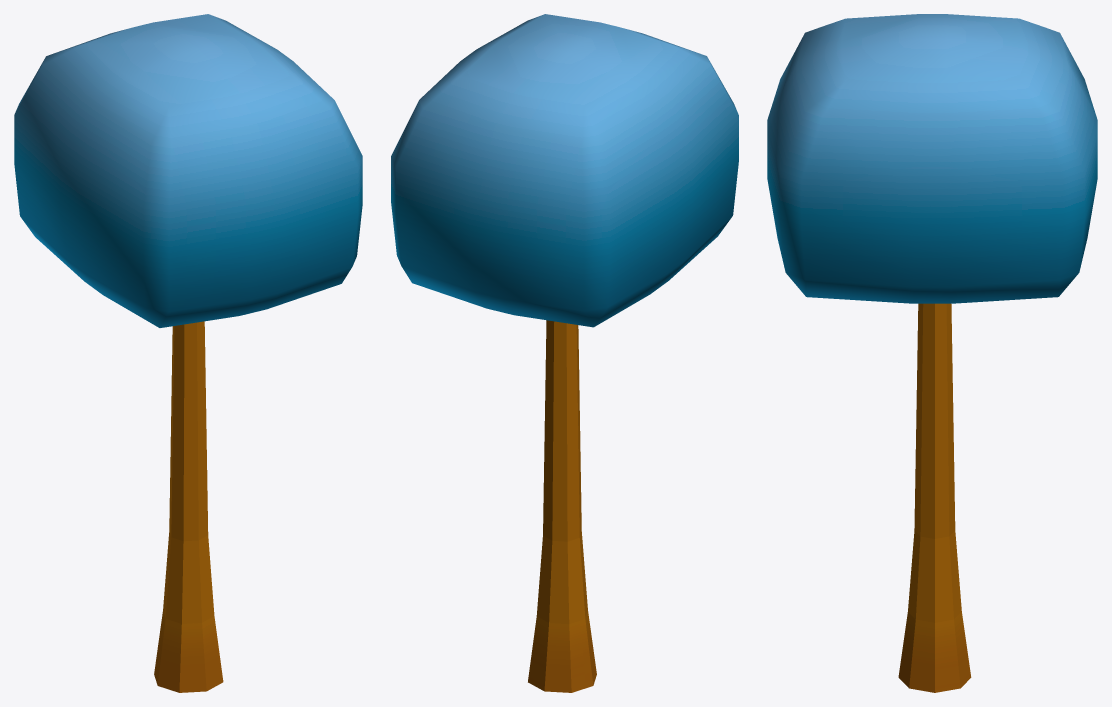
The model's file is mini-2-blue.fbx.
The picture shows the model from 3 angles, left to right: view 1: azimuth 30°, elevation 25°; view 2: azimuth 150°, elevation 25°; view 3: azimuth 270°, elevation 25°; orthographic projection.
Visible parts, largest first — view 1: Cylinder.007; view 2: Cylinder.007; view 3: Cylinder.007.
Boxes of the visible parts, box(x1,y1,x2,y2) form: Cylinder.007: box(14, 14, 362, 692); Cylinder.007: box(391, 14, 738, 692); Cylinder.007: box(767, 14, 1097, 692).
Bounding box in the file's own units: 32.54 × 82.83 × 38.56.
